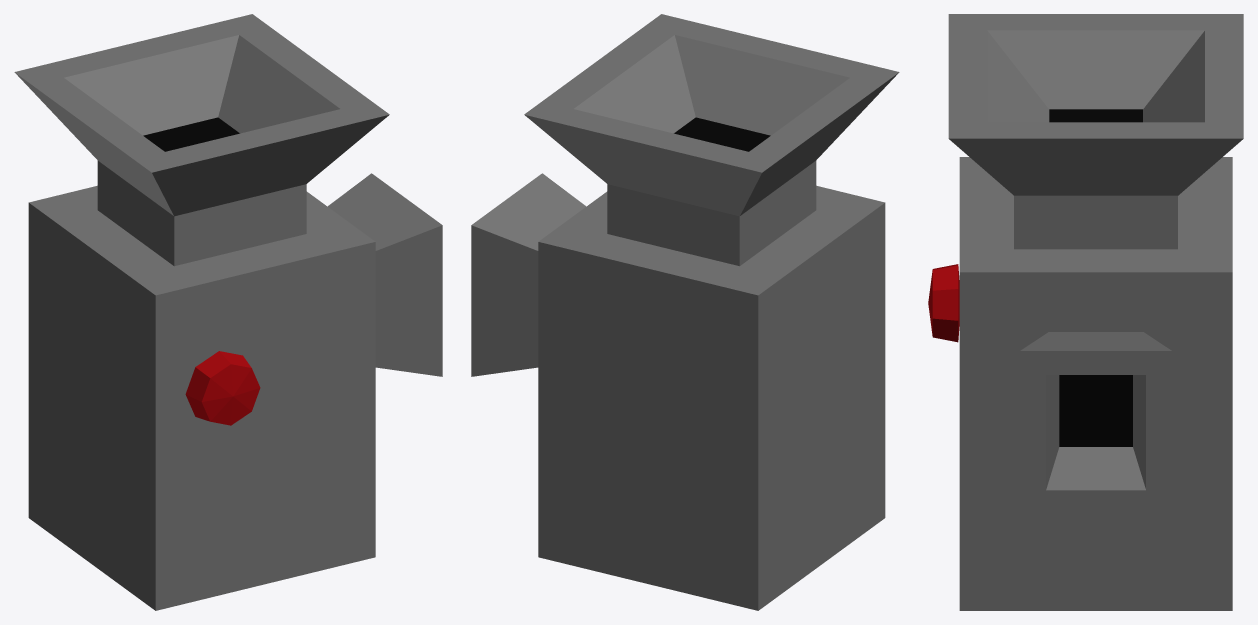
The model's file is Machine.fbx.
The picture shows the model from 3 angles, left to right: view 1: azimuth 30°, elevation 25°; view 2: azimuth 150°, elevation 25°; view 3: azimuth 270°, elevation 25°; orthographic projection. The views are drawn at different scales.
Visible parts, largest first — view 1: Machine, Buton; view 2: Machine; view 3: Machine, Buton.
Boxes of the visible parts, x1,y1,x2,y2 form: Machine: [14, 14, 442, 610]; Buton: [185, 351, 260, 425]; Machine: [471, 14, 899, 610]; Machine: [948, 14, 1243, 610]; Buton: [928, 264, 959, 342].
Bounding box in the file's own units: 340 × 445 × 267.
